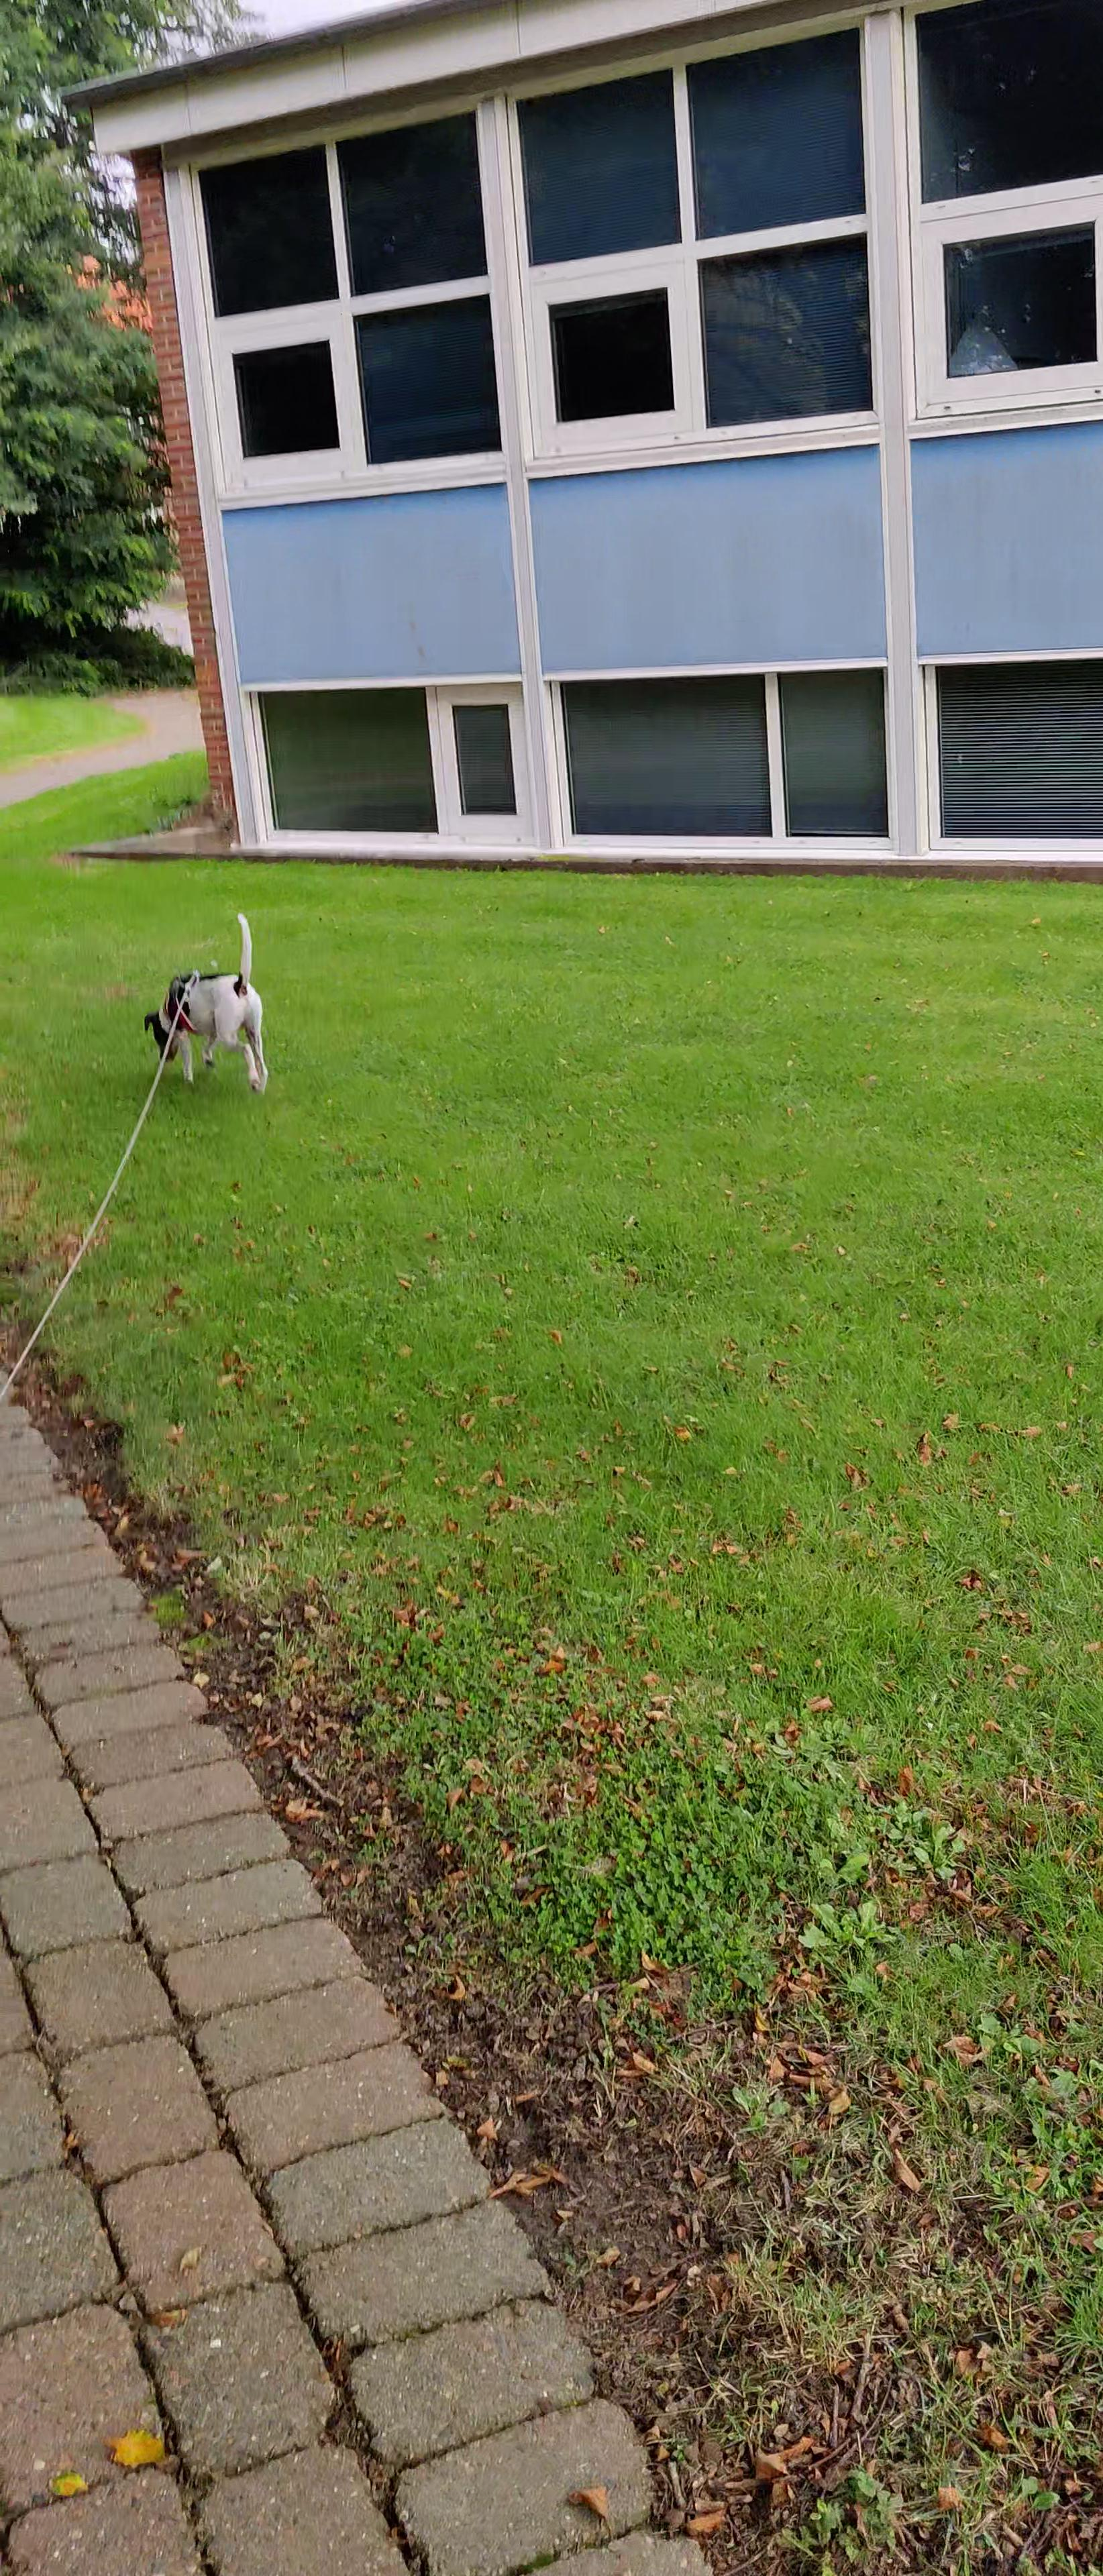Dog: (136, 907, 281, 1101)
